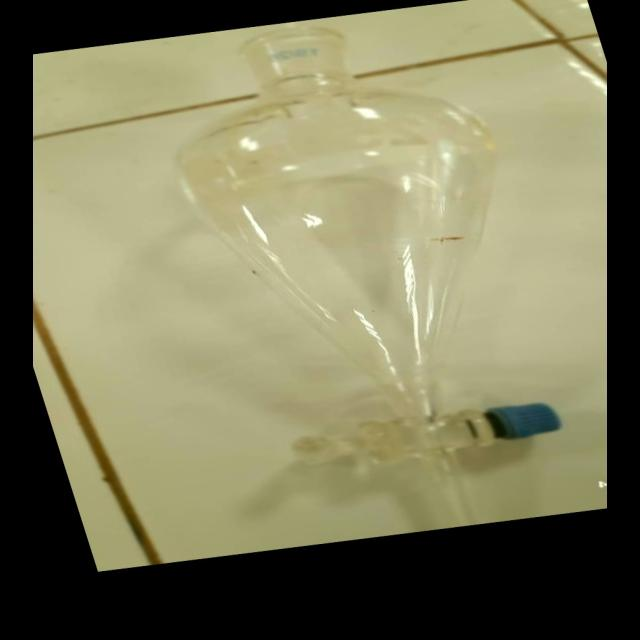Separating Funnel: (144, 8, 606, 547)
